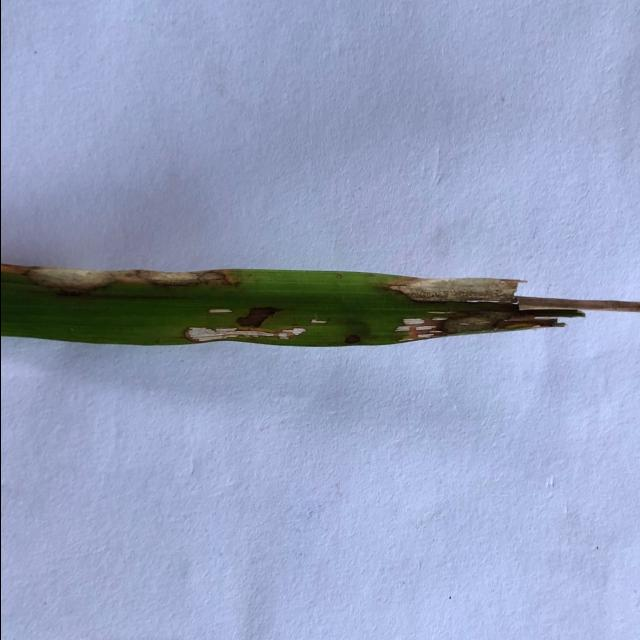Leaf Blight: (382, 275, 640, 342), (0, 262, 239, 293), (183, 307, 315, 345), (343, 334, 360, 346), (207, 308, 232, 314), (308, 317, 326, 324)
